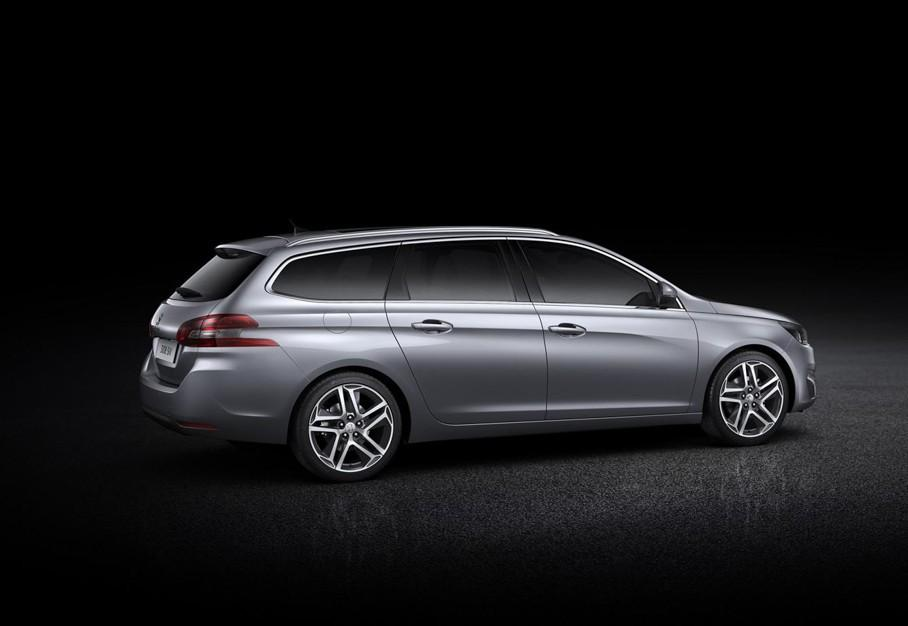Wagon: (137, 226, 819, 484)
